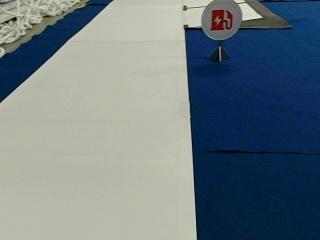battery: (200, 0, 242, 39)
